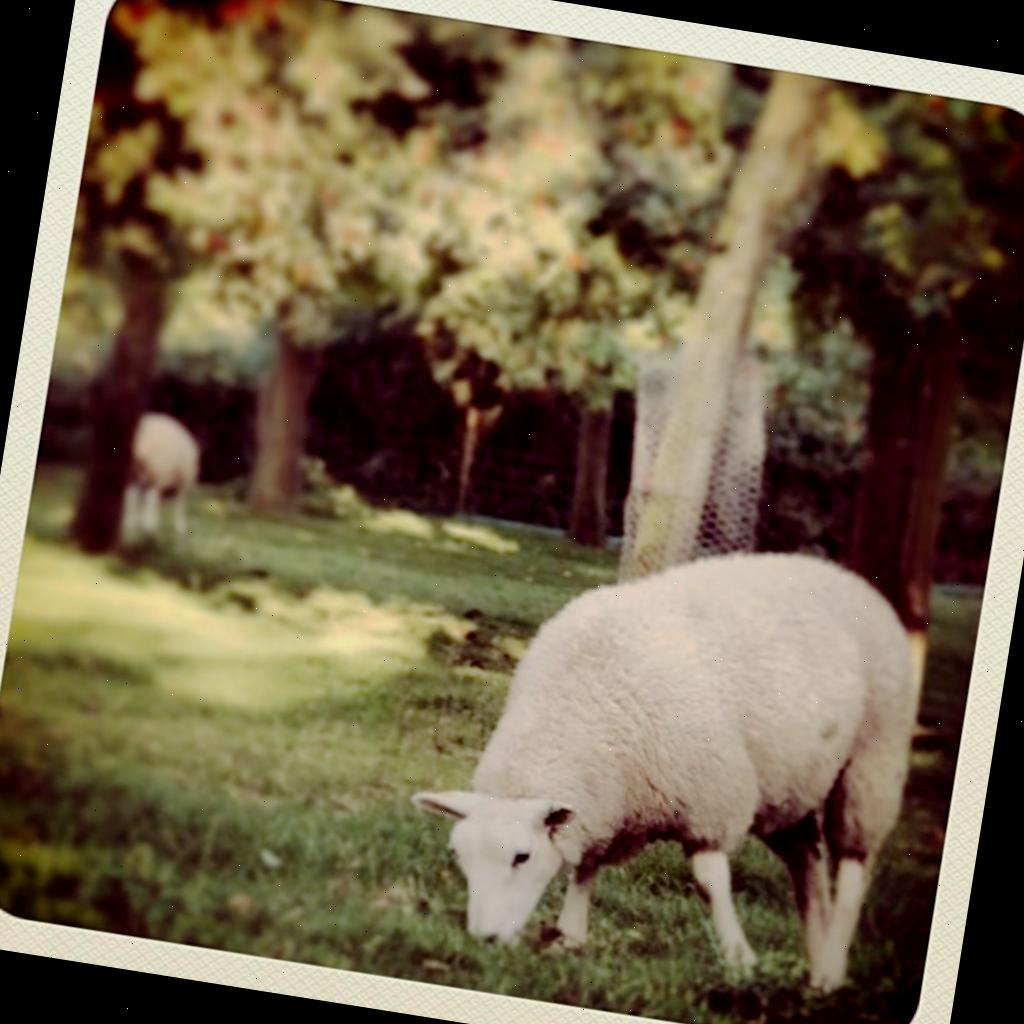Sheep: (389, 496, 943, 1014), (114, 410, 204, 552)
